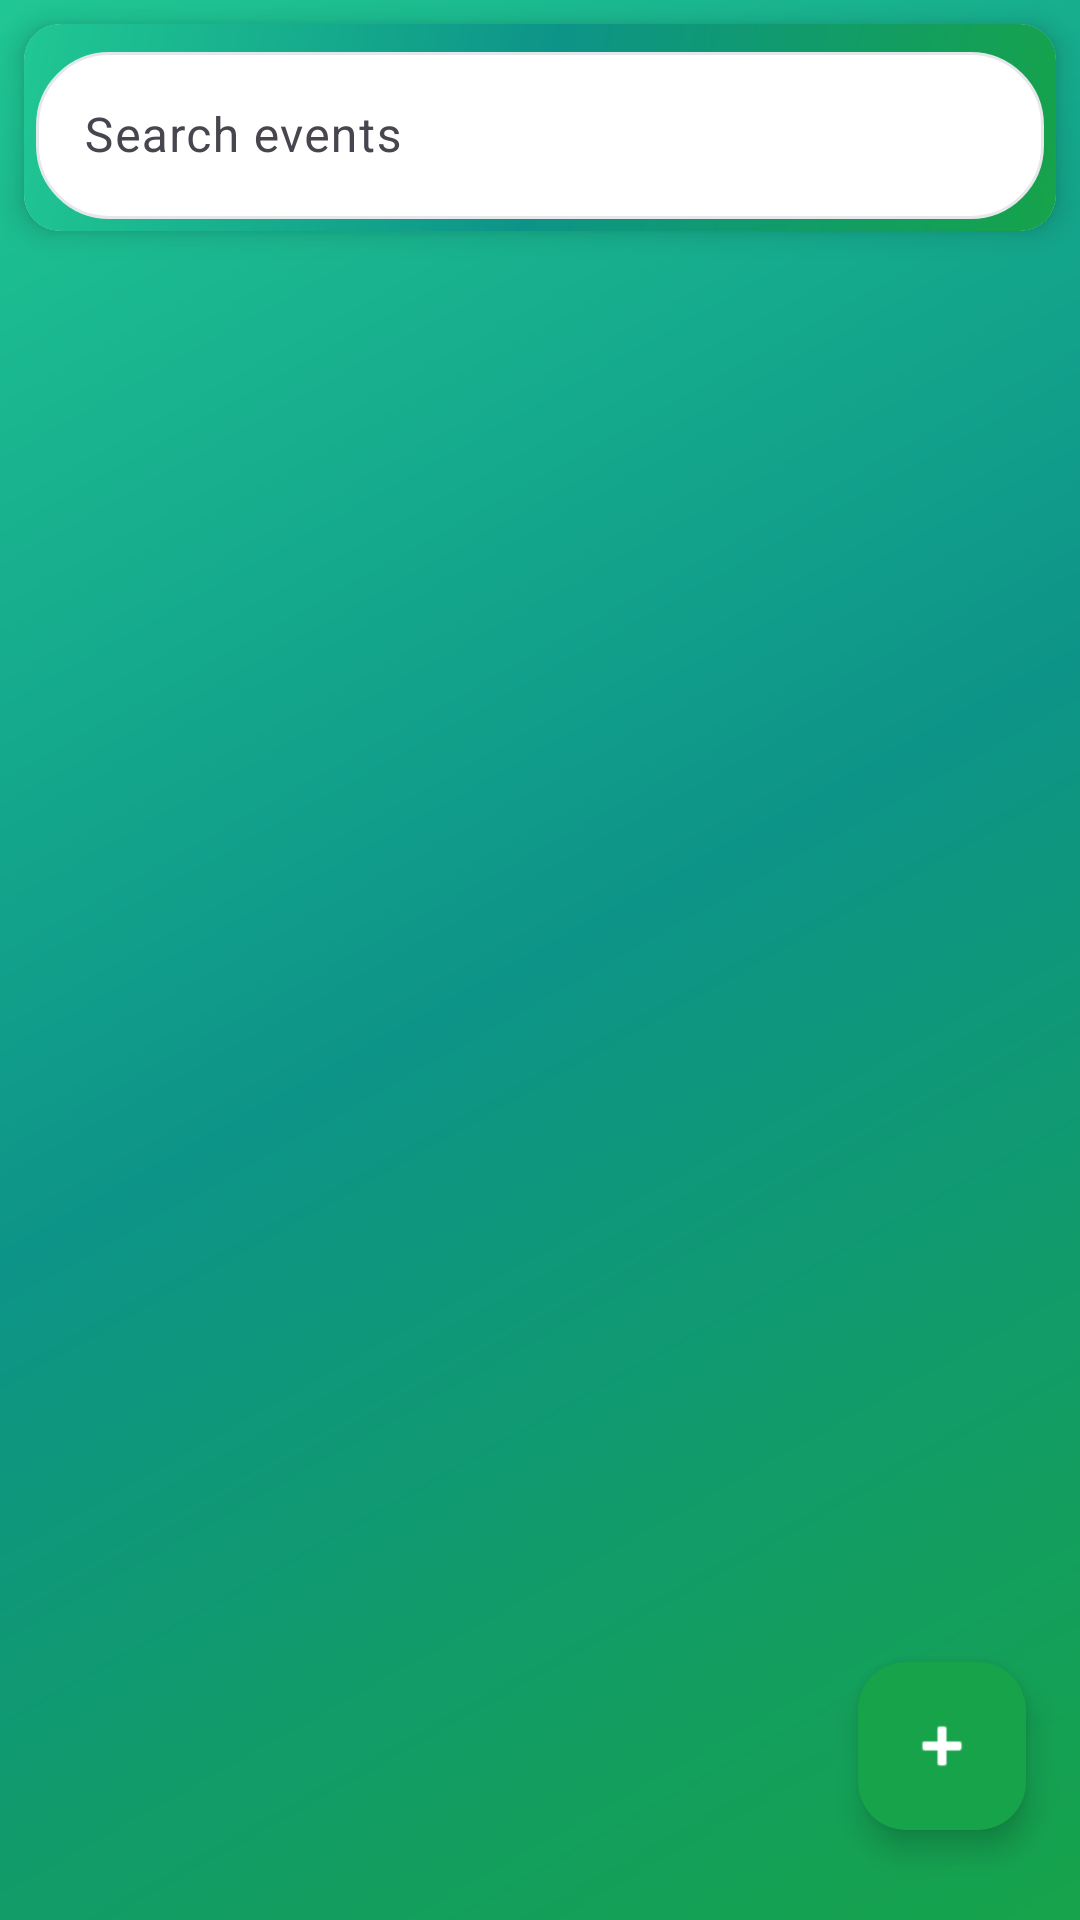

Where to tap for icons on this 1080×1920 app screen, as [x,y]:
Add Event: [942,1746]
